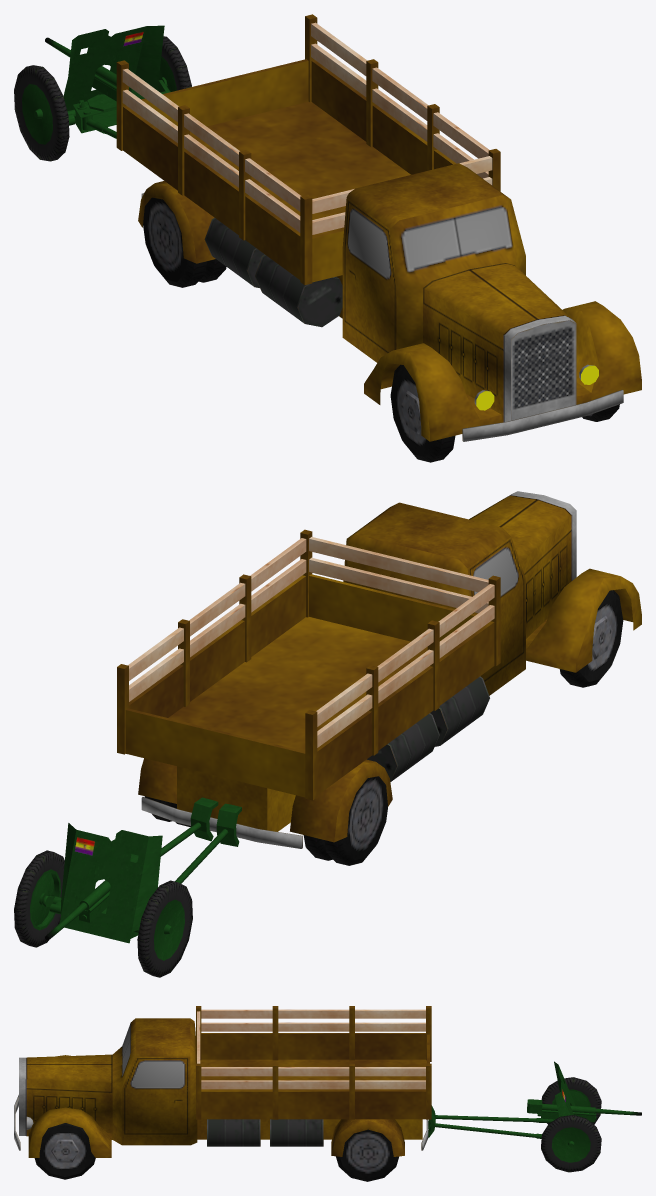
Rendered from esr37mmCC_truck.dae.
3 views of the same model, one above another, from view 1: azimuth 30°, elevation 25°; view 2: azimuth 150°, elevation 25°; view 3: azimuth 270°, elevation 25° (orthographic). The views are drawn at different scales.
Parts seen in each view (by area): view 1: base, barrels, gun_wheels, shield, wheels2, wheels1, carriage, sleeve; view 2: base, shield, gun_wheels, barrels, wheels2, wheels1, lleg, rleg, sleeve; view 3: base, gun_wheels, barrels, wheels1, wheels2, sleeve, rleg, shield, lleg.
Boxes of the visible parts, x1=… form: base: x1=116, y1=14, x2=641, y2=441; barrels: x1=204, y1=217, x2=342, y2=327; gun_wheels: x1=14, y1=36, x2=191, y2=161; shield: x1=63, y1=25, x2=164, y2=110; wheels2: x1=143, y1=197, x2=226, y2=287; wheels1: x1=390, y1=364, x2=619, y2=462; carriage: x1=67, y1=80, x2=170, y2=133; sleeve: x1=92, y1=66, x2=144, y2=101; base: x1=117, y1=491, x2=641, y2=848; shield: x1=59, y1=823, x2=162, y2=943; gun_wheels: x1=14, y1=850, x2=192, y2=977; barrels: x1=367, y1=676, x2=489, y2=781; wheels2: x1=144, y1=776, x2=387, y2=865; wheels1: x1=559, y1=590, x2=623, y2=687; lleg: x1=175, y1=803, x2=241, y2=883; rleg: x1=160, y1=797, x2=218, y2=856; sleeve: x1=77, y1=854, x2=138, y2=922; base: x1=14, y1=1006, x2=431, y2=1157; gun_wheels: x1=541, y1=1077, x2=601, y2=1172; barrels: x1=207, y1=1119, x2=323, y2=1146; wheels1: x1=34, y1=1123, x2=95, y2=1179; wheels2: x1=336, y1=1129, x2=399, y2=1181; sleeve: x1=527, y1=1099, x2=596, y2=1122; rleg: x1=428, y1=1111, x2=541, y2=1138; shield: x1=554, y1=1061, x2=575, y2=1116; lleg: x1=428, y1=1105, x2=552, y2=1128.
Size of the model in its own units: 18.01 by 73.68 by 15.33.
